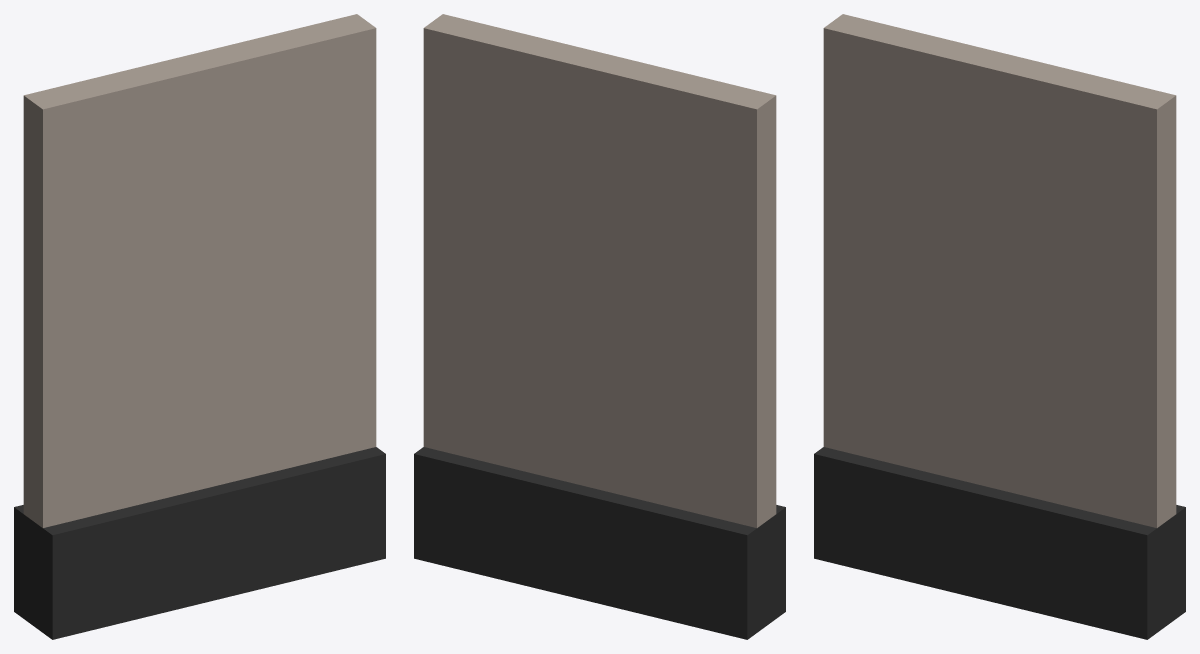
Rendered from Paredes.fbx.
The picture shows the model from 3 angles, left to right: view 1: azimuth 30°, elevation 25°; view 2: azimuth 150°, elevation 25°; view 3: azimuth 330°, elevation 25°; orthographic projection.
Visible parts, largest first — view 1: Parede.065; view 2: Parede.065; view 3: Parede.065.
Boxes of the visible parts, left/top/right/bottom form: Parede.065: left=14, top=14, right=385, bottom=639; Parede.065: left=414, top=14, right=785, bottom=639; Parede.065: left=814, top=14, right=1185, bottom=639.
Bounding box in the file's own units: 200 × 300 × 40.01.
